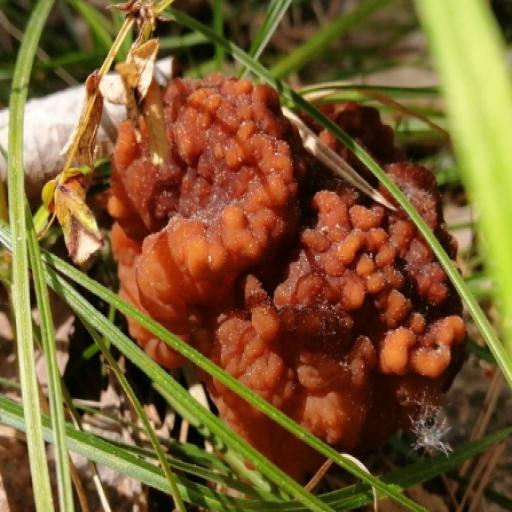mushroom: (110, 66, 463, 447)
